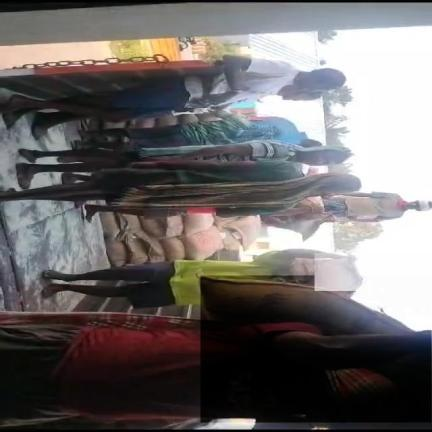Zone-Counting: (0, 277, 431, 427)
